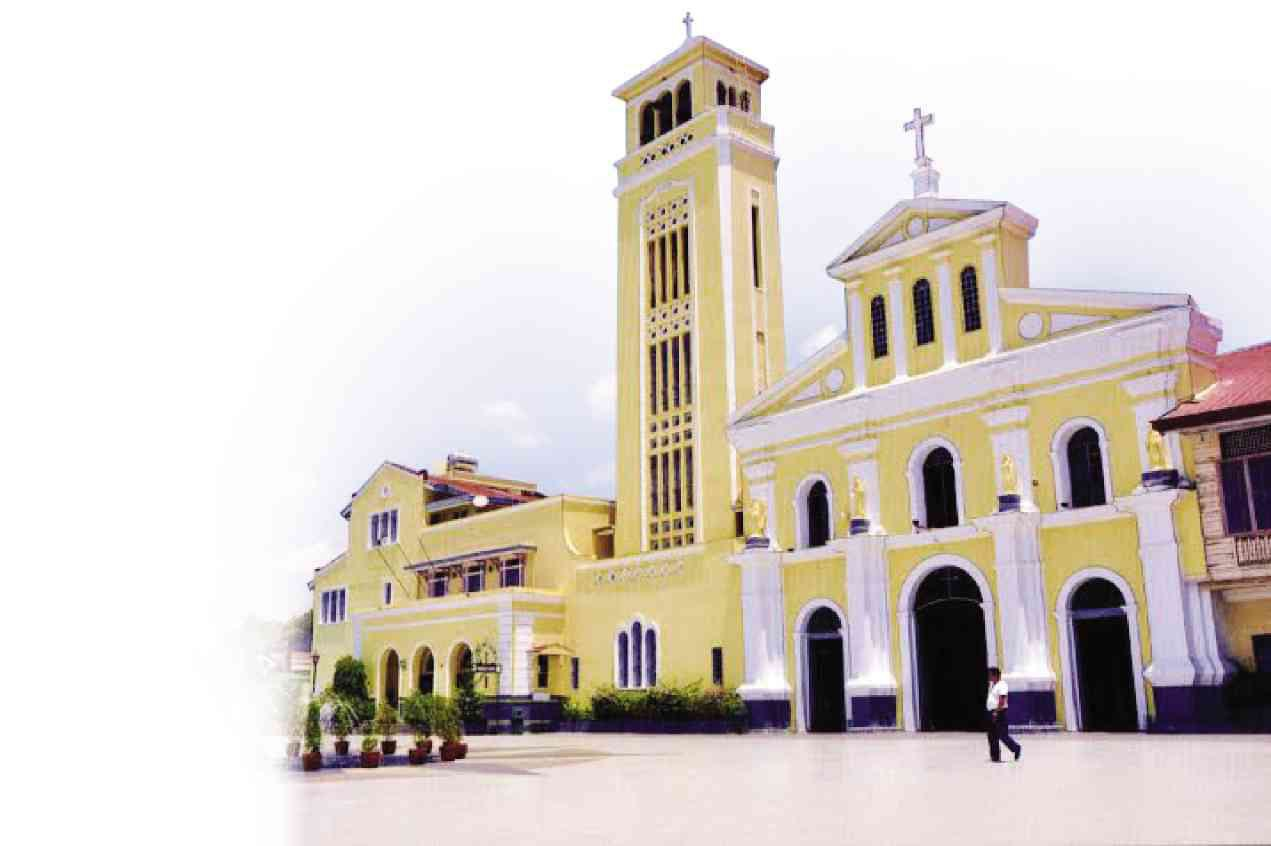manaoag_church_manaoag_pangasinan: (591, 8, 1221, 730)
